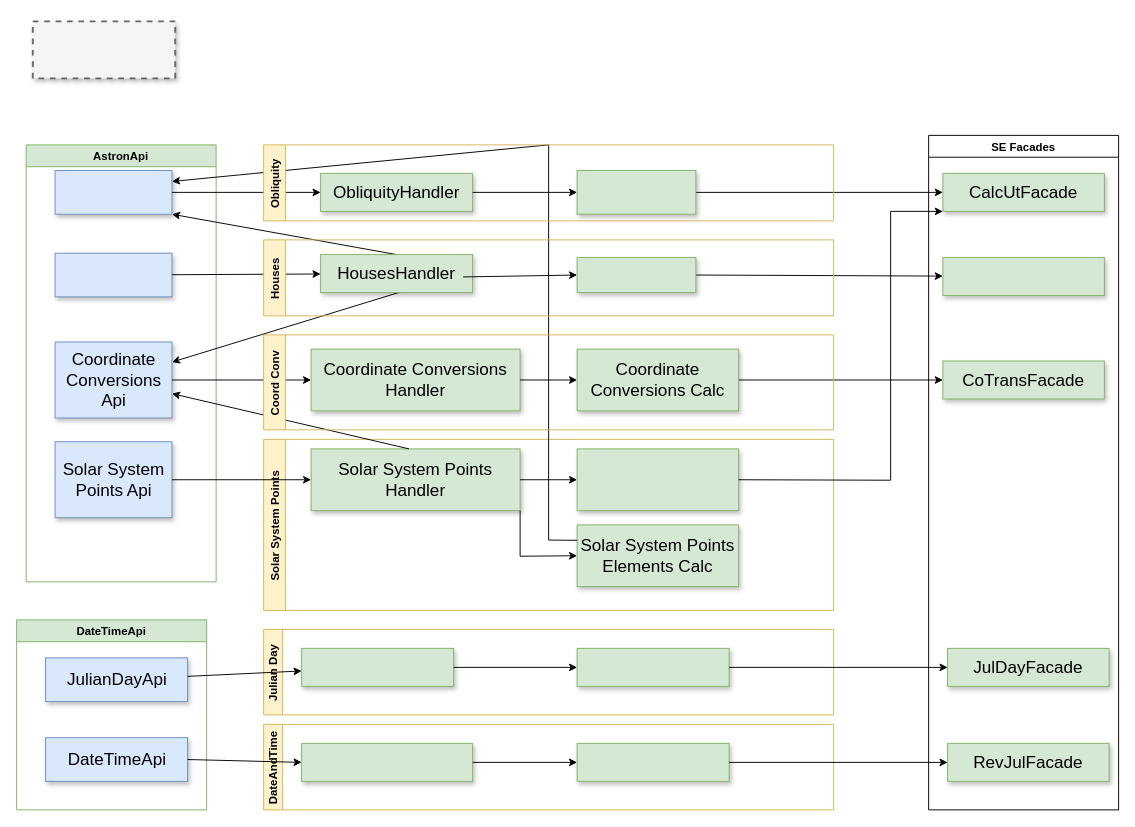
Some shapes in this 1135 by 827 pixel diagram are drawn without their labels. Each missing label, with the centre of its shape:
"DateTimeCalc" belongs at point 653,763.
"DateTimeHandler" belongs at point 387,763.
"Detailed examples" belongs at point 104,51.
"HousesApi" belongs at point 114,276.
"HousesCalc" belongs at point 637,276.
"HousesFacade" belongs at point 1024,277.
"JulianDayCalc" belongs at point 653,668.
"JulianDayHandler" belongs at point 378,668.
"ObliquityApi" belongs at point 114,193.
"ObliquityCalc" belongs at point 637,193.
"Solar System Points SE Calc" belongs at point 658,480.
